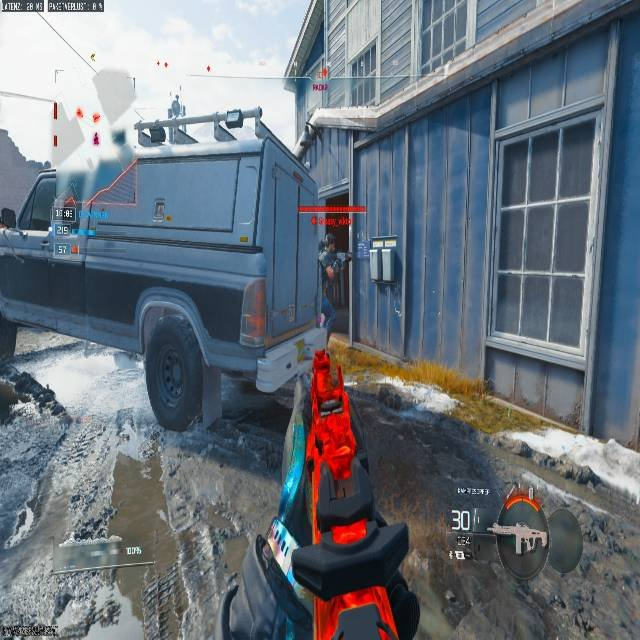head: (318, 227, 333, 247), (324, 232, 336, 249)
player: (0, 188, 70, 431), (0, 362, 71, 427), (311, 234, 343, 324), (317, 232, 350, 289)
